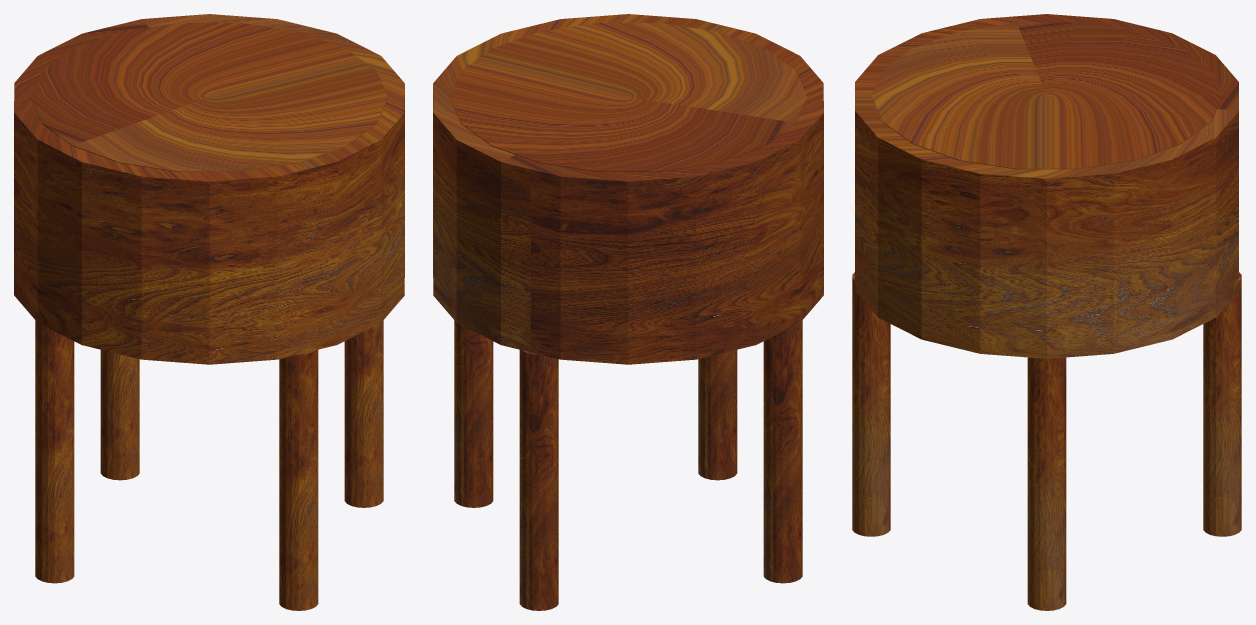
Rendered from roundtable.dae.
3 views of the same model, side by side, from view 1: azimuth 30°, elevation 25°; view 2: azimuth 150°, elevation 25°; view 3: azimuth 270°, elevation 25° (orthographic).
Parts seen in each view (by area): view 1: node; view 2: node; view 3: node.
Part boxes in pixels (<box>): node: <box>14,14,404,610</box>; node: <box>433,14,823,610</box>; node: <box>852,14,1241,610</box>.
Bounding box in the file's own units: 0.4572 × 0.5597 × 0.4566.
Materials: 1 (1 with a texture image).
